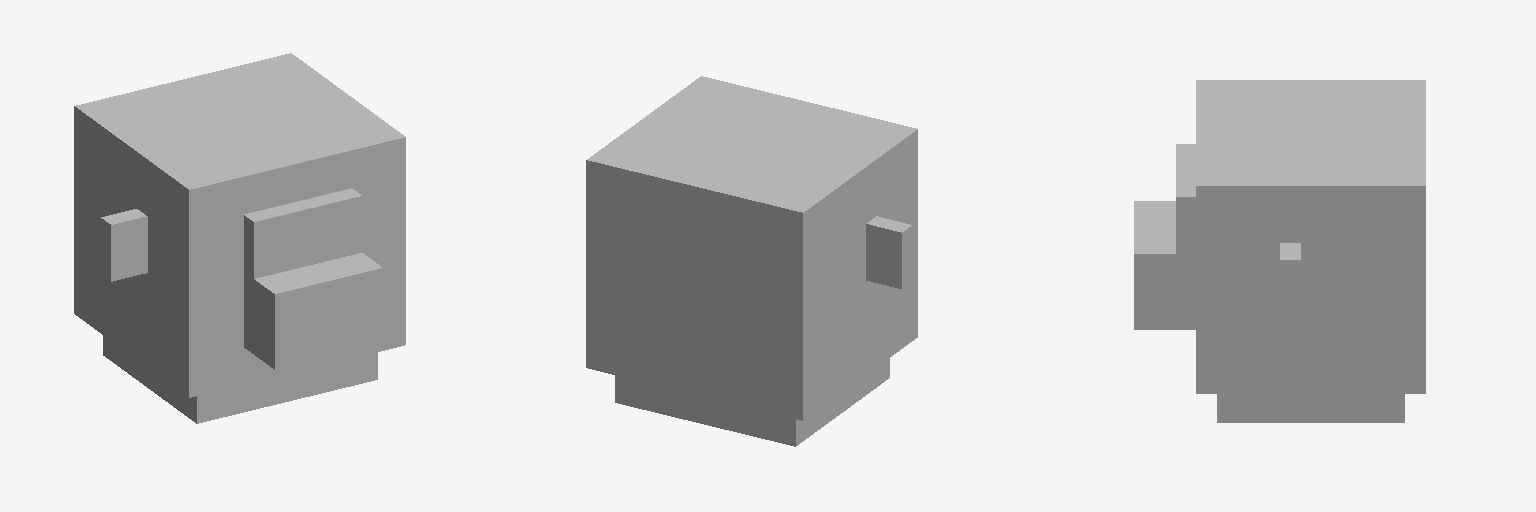
File: lion.obj
3 renders of one model, left to right at view 1: azimuth 30°, elevation 25°; view 2: azimuth 150°, elevation 25°; view 3: azimuth 270°, elevation 25°, orthographic.
Parts seen in each view (by area): view 1: lion; view 2: lion; view 3: lion.
Part boxes in pixels (x1,y1,x2,y2): lion: (74,53,405,423); lion: (586,76,917,446); lion: (1134,80,1425,422).
Bounding box in the file's own units: 16 × 13 × 14.